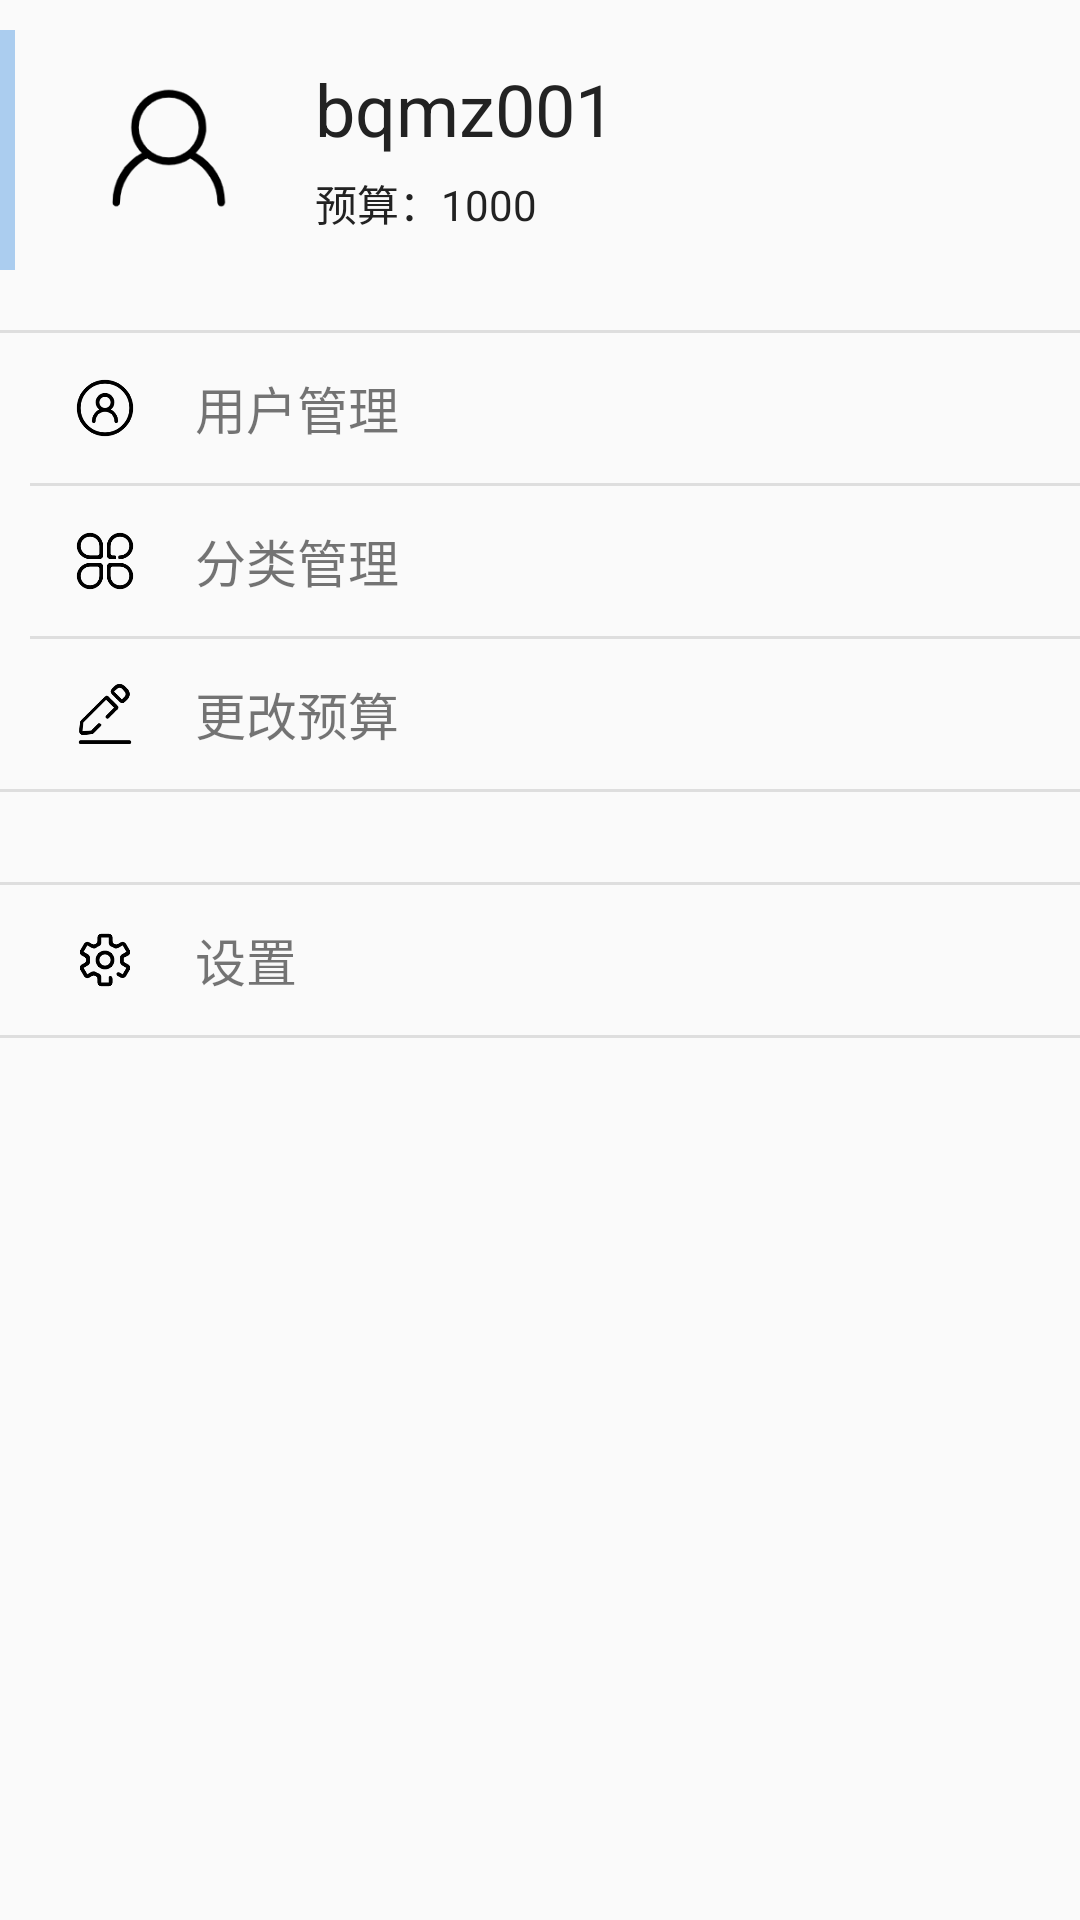

Icon click points for this 1080w x 1920h phone screenshot, format (x=x, y=y):
circleuser: (x=105, y=408)
edit: (x=105, y=714)
settings: (x=105, y=960)
user: (x=169, y=148)
